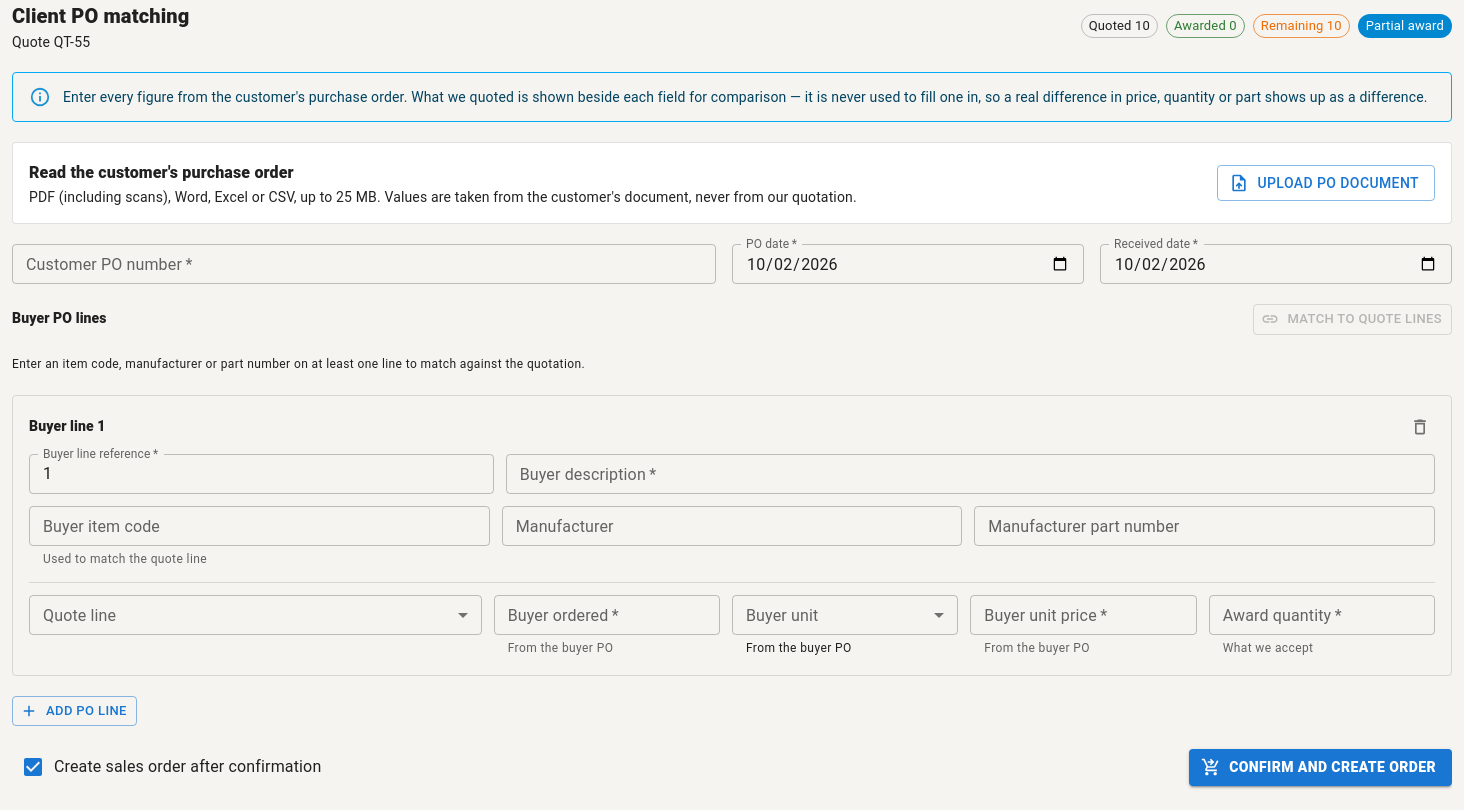
it: three-key quote line matching › proposes a quote line from the buyer keys and applies it only once accepted
Expected: the heading "Buyer line 1" is shown, x1=29 y1=416 x2=106 y2=438
Type "E-VLV-2" into the field labelled "Manufacturer part number" at (1205, 526), box x1=974 y1=506 x2=1435 y2=546
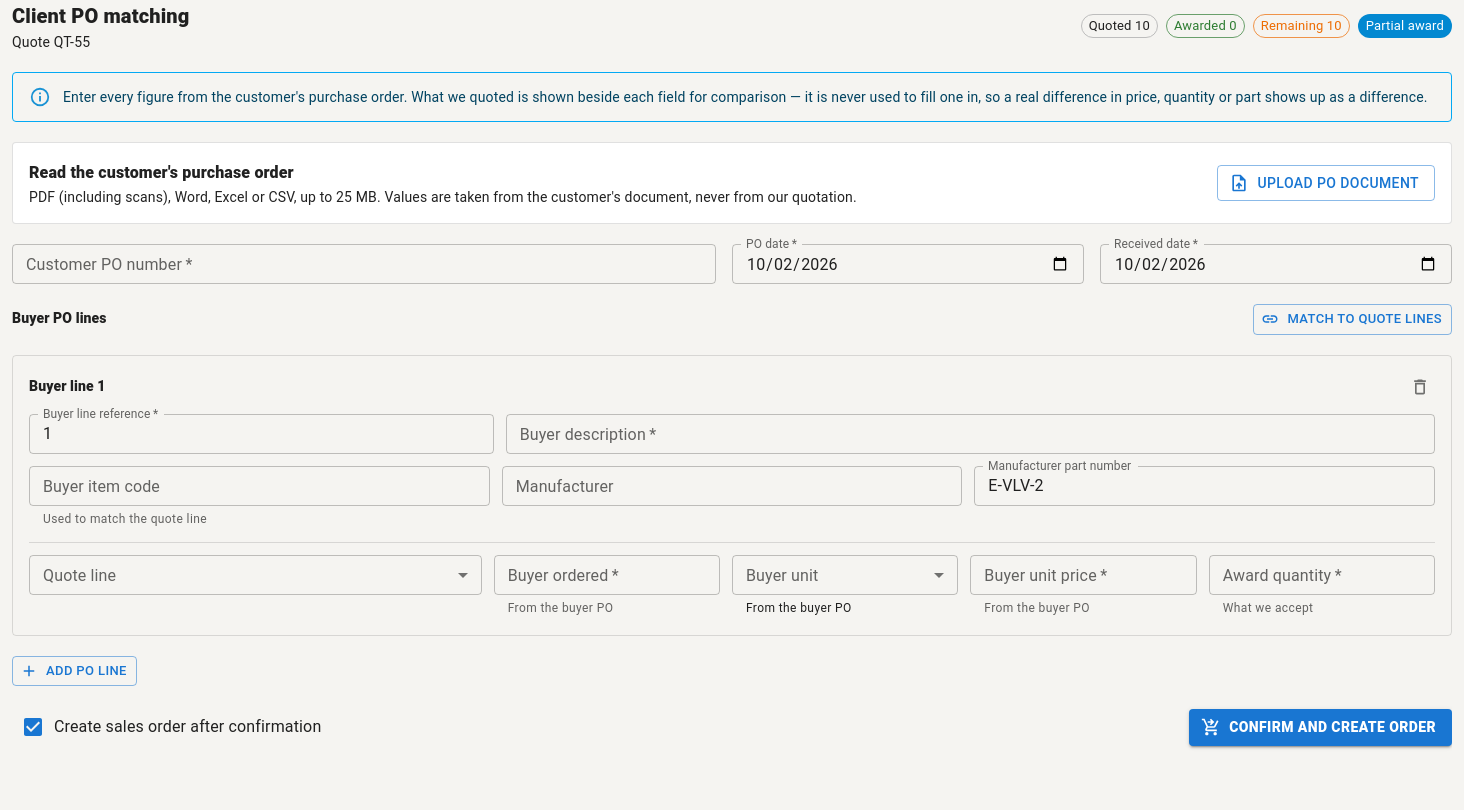
Click the button "Match to quote lines" at (1353, 319), box x1=1253 y1=304 x2=1452 y2=335
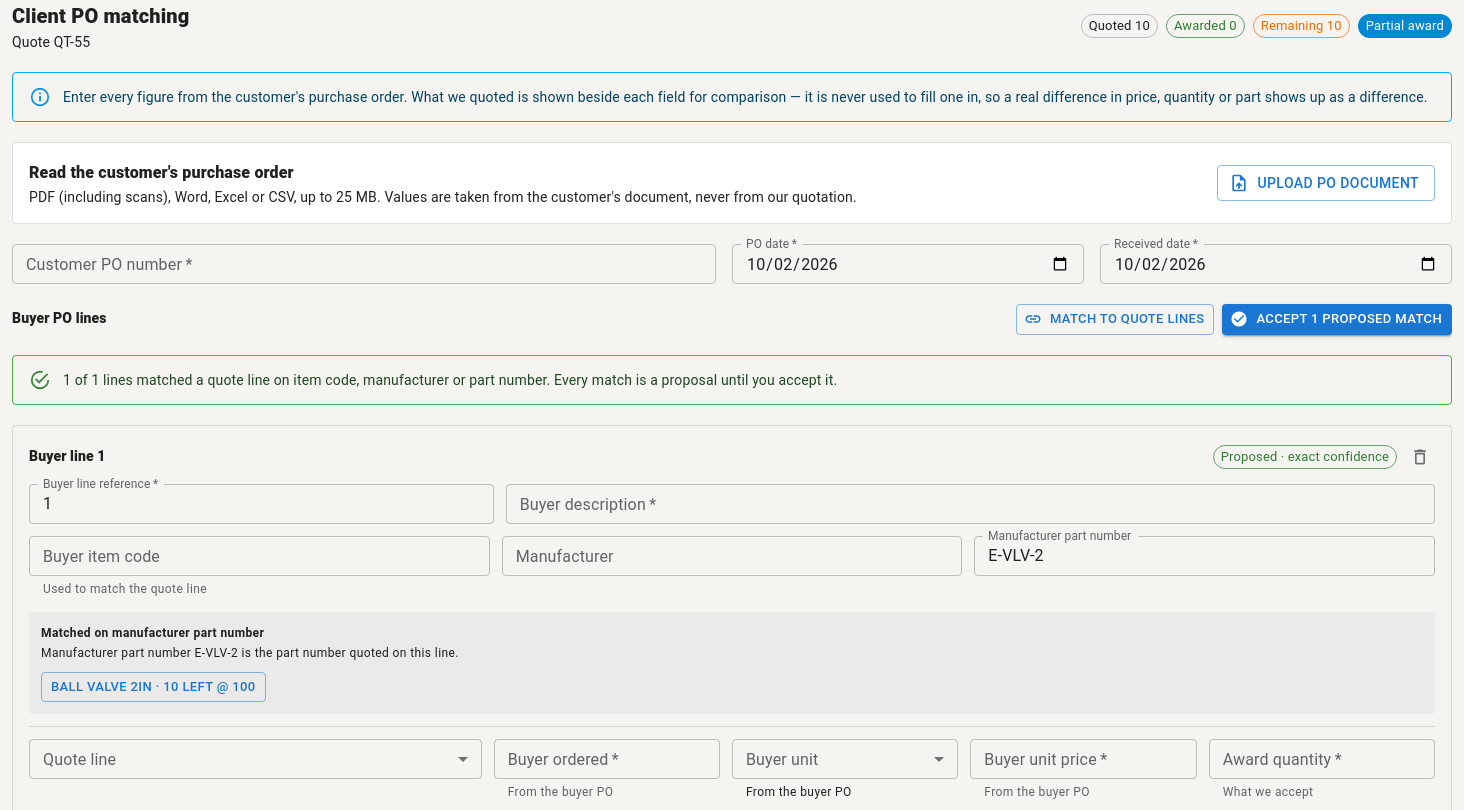
Expected: the 1st dropdown named "Quote line" does not show "Ball valve 2in", x1=29 y1=739 x2=482 y2=779
Now the text "Matched on manufacturer part number" is shown, box x1=41 y1=626 x2=264 y2=640
Click the button "Accept 1 proposed match" at (1337, 319), box x1=1222 y1=304 x2=1452 y2=335
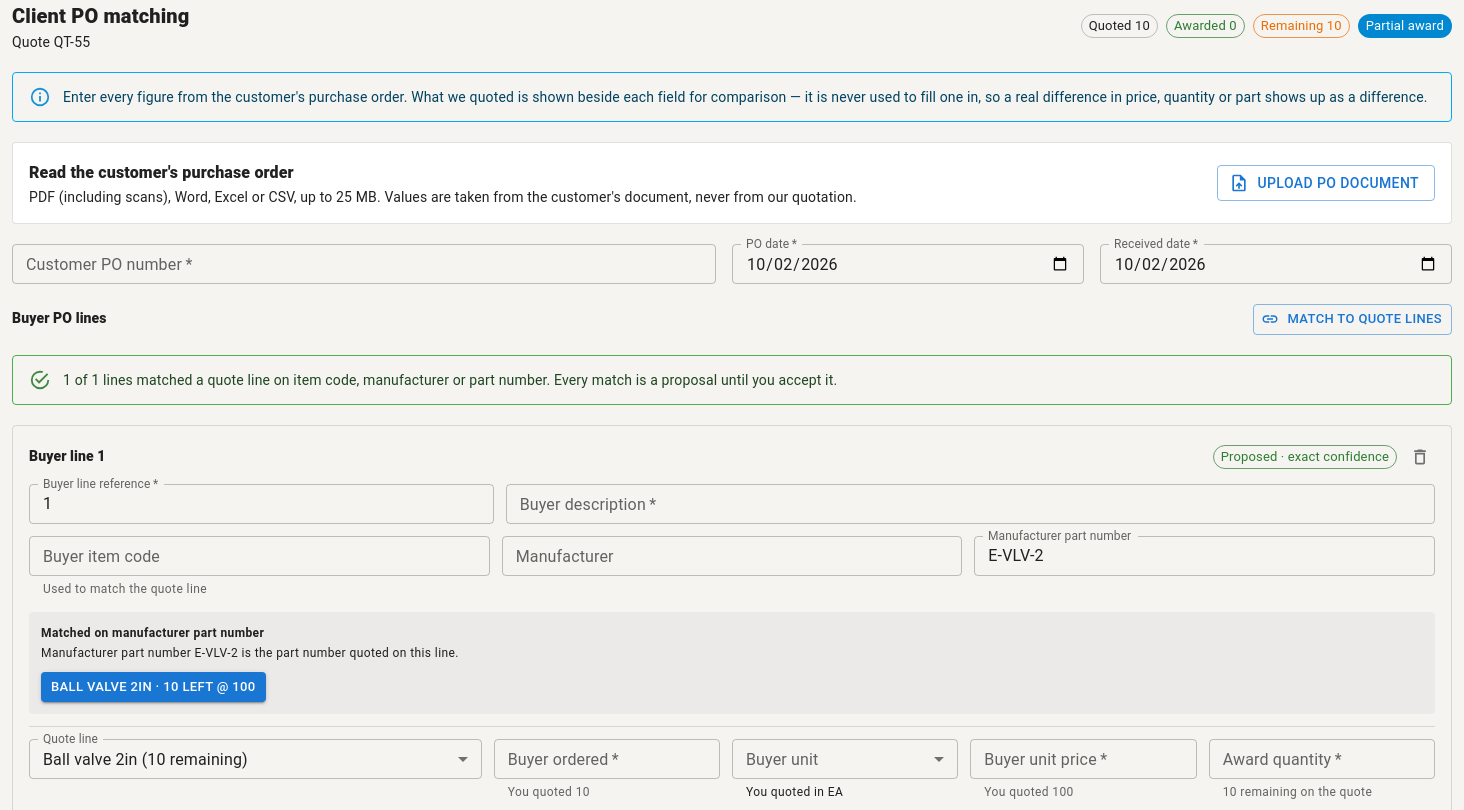
Now the dropdown named "Quote line" shows "Ball valve 2in", box x1=43 y1=750 x2=248 y2=769
